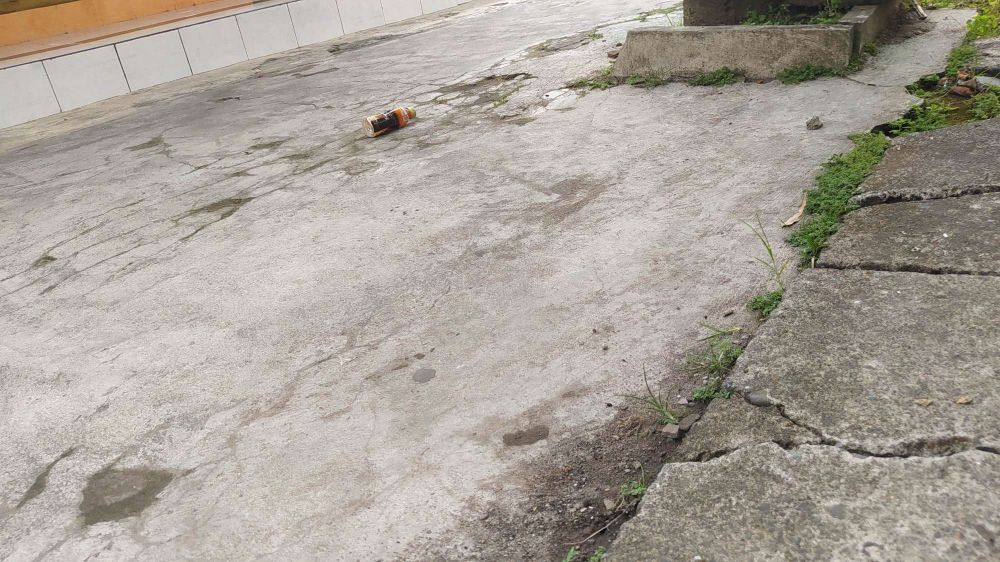botol: (352, 96, 421, 137)
